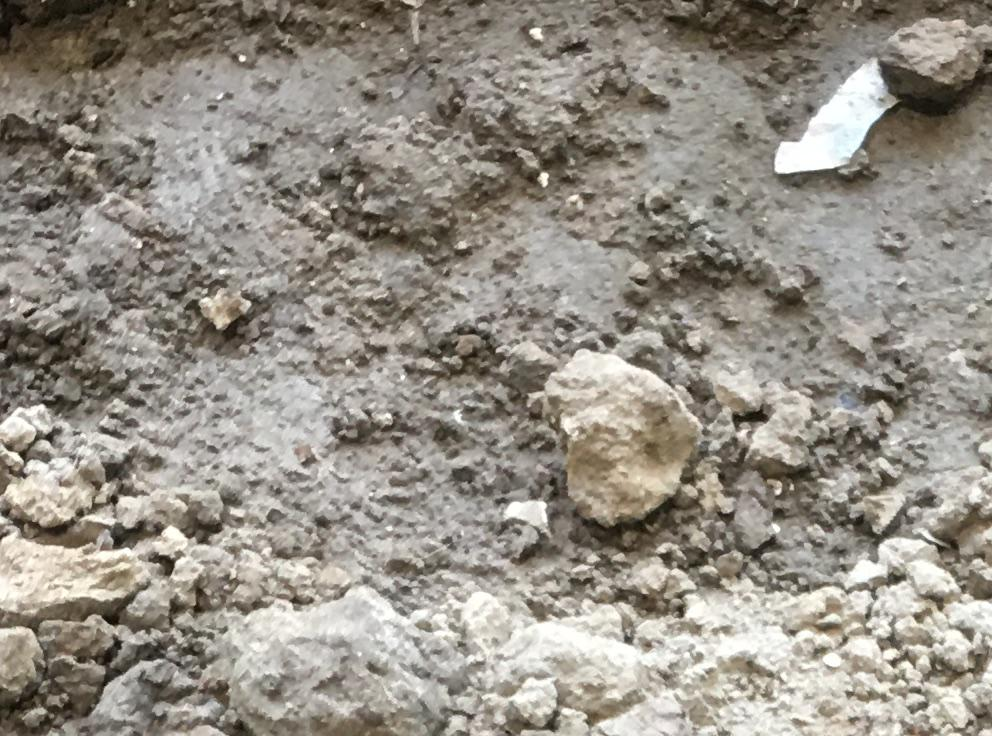block: (538, 344, 701, 528), (878, 17, 989, 113)
